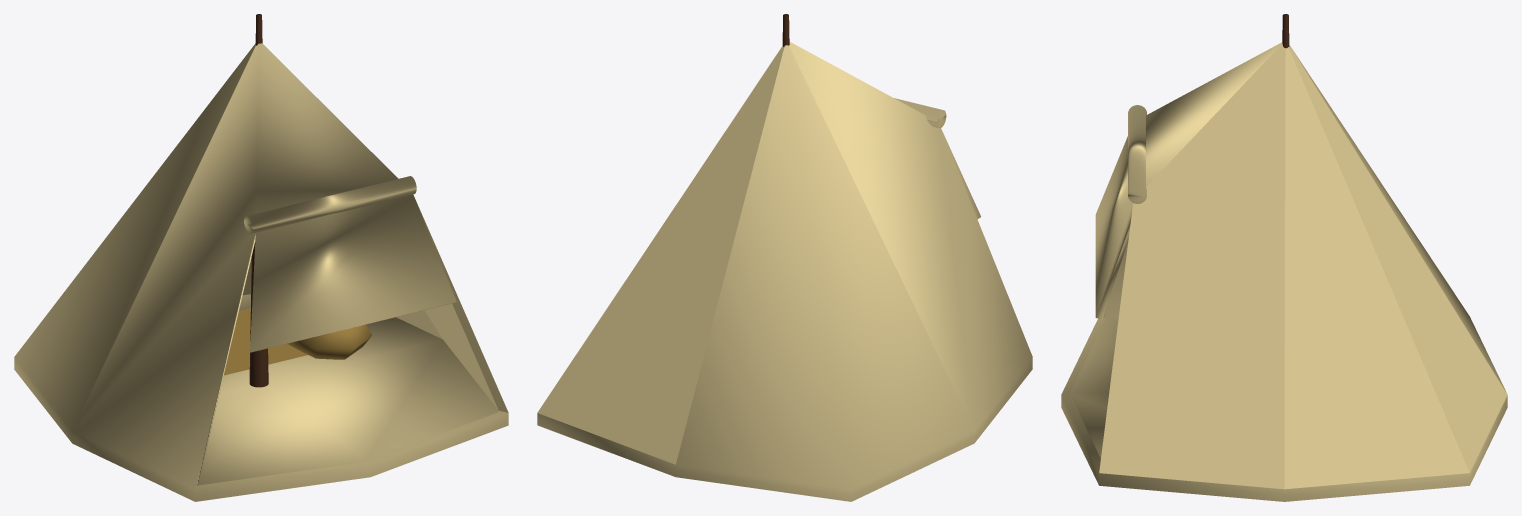
Rendered from Tent.fbx.
3 views of the same model, side by side, from view 1: azimuth 30°, elevation 25°; view 2: azimuth 150°, elevation 25°; view 3: azimuth 270°, elevation 25° (orthographic). The views are drawn at different scales.
Visible parts, largest first — view 1: Cylinder; view 2: Cylinder; view 3: Cylinder.
Boxes of the visible parts, bbox=[...] form: Cylinder: bbox=[14, 14, 508, 501]; Cylinder: bbox=[537, 14, 1032, 501]; Cylinder: bbox=[1061, 14, 1507, 501].
Bounding box in the file's own units: 701 × 677 × 700.
